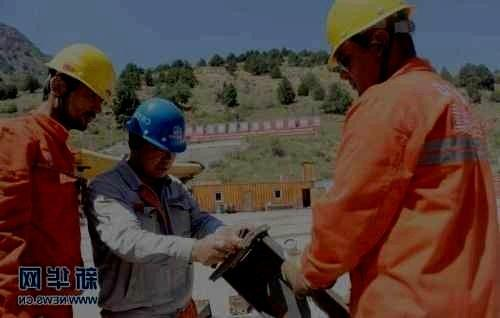helmet: (324, 1, 417, 98), (41, 42, 114, 132), (126, 96, 188, 178)
